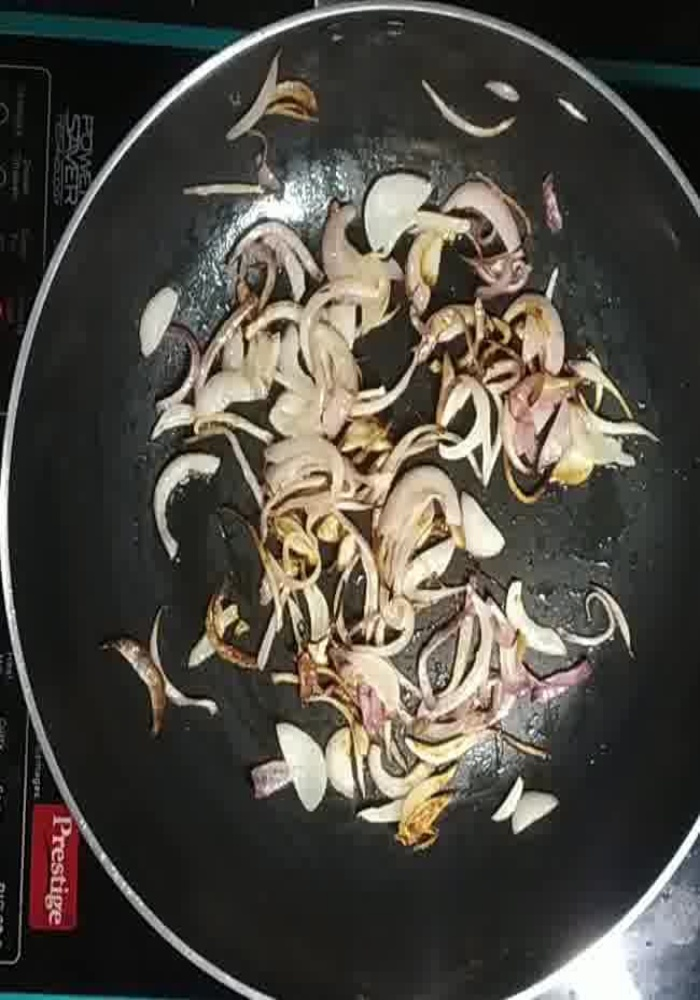onion_fried: (427, 297, 556, 376), (113, 634, 185, 734), (205, 292, 309, 342), (199, 586, 255, 674), (283, 639, 343, 718), (397, 783, 452, 859), (513, 368, 575, 433), (400, 717, 496, 758), (254, 514, 333, 563), (342, 418, 395, 466), (370, 533, 416, 586), (275, 78, 321, 126), (547, 455, 589, 492)
onion_golden: (162, 358, 343, 450), (421, 585, 503, 762), (326, 470, 500, 550), (348, 597, 413, 749), (320, 200, 393, 332), (280, 343, 346, 432), (451, 179, 527, 256), (368, 168, 438, 251), (435, 384, 491, 472), (273, 724, 329, 812), (410, 235, 442, 317)
